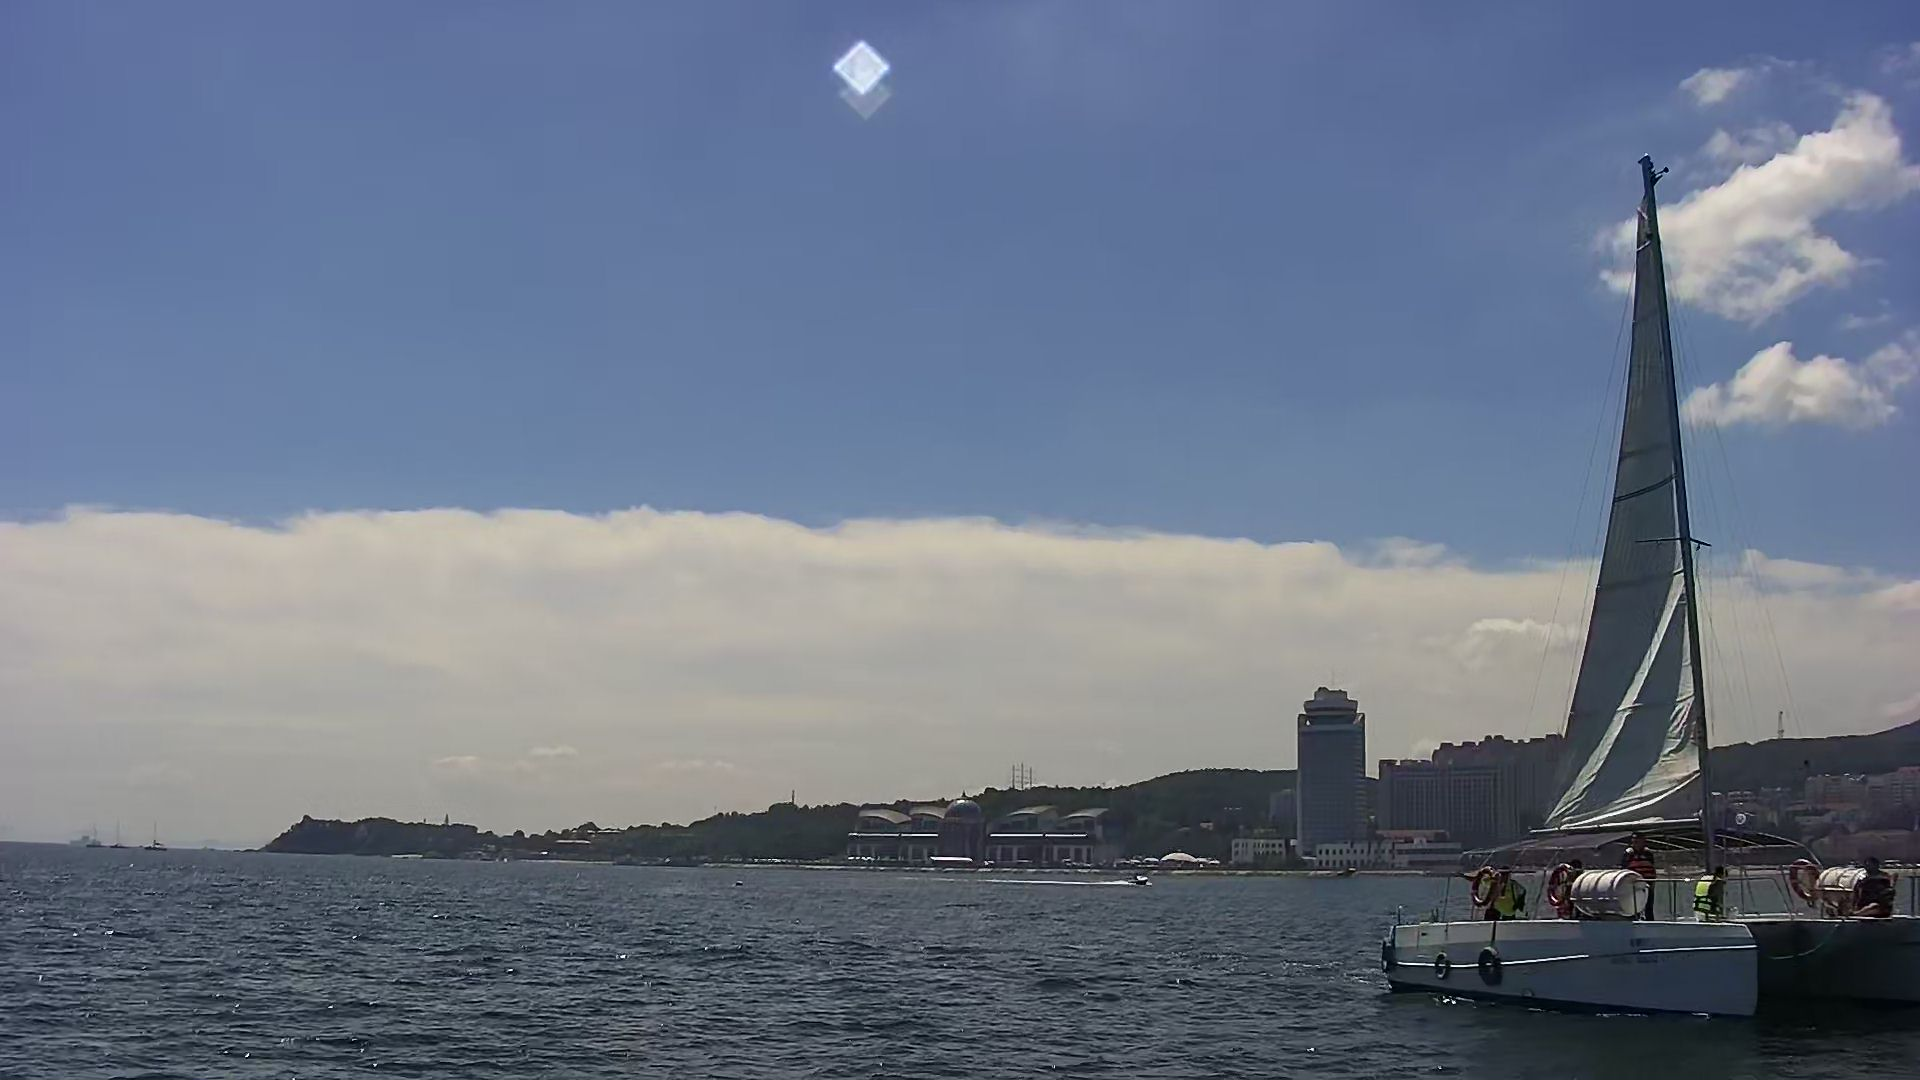boat: (1381, 165, 1920, 1036)
